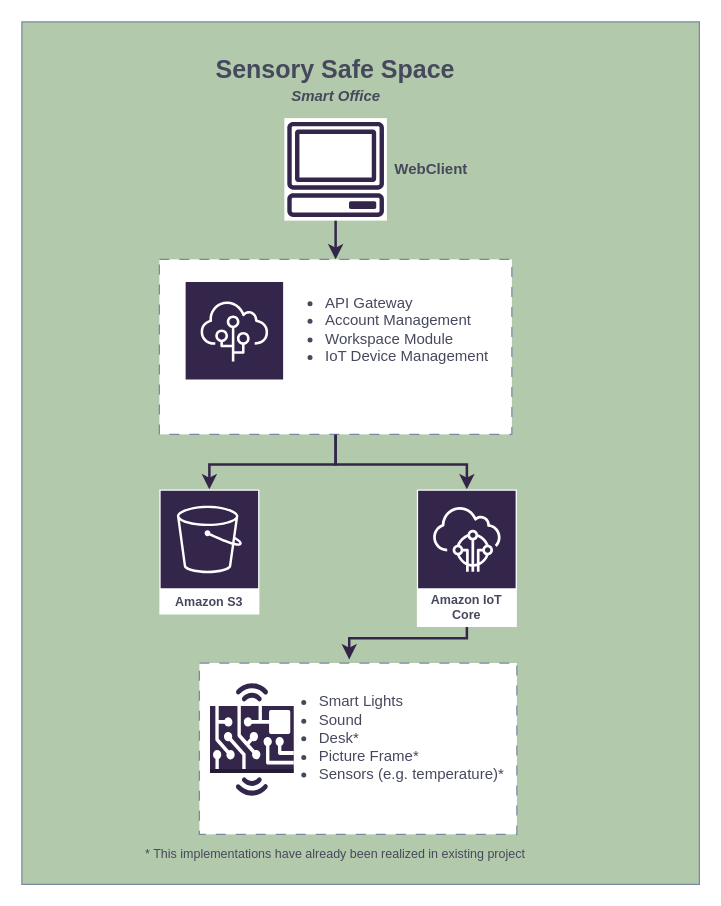
Image size: 721x906. Some labels were removed from this diagram. Here are the shapes that lost their labels. From the top down, the centre of each, then its label:
At point (233, 349): "AWS Elastic Beanstalk".
At point (251, 739): "IoT Devices".
